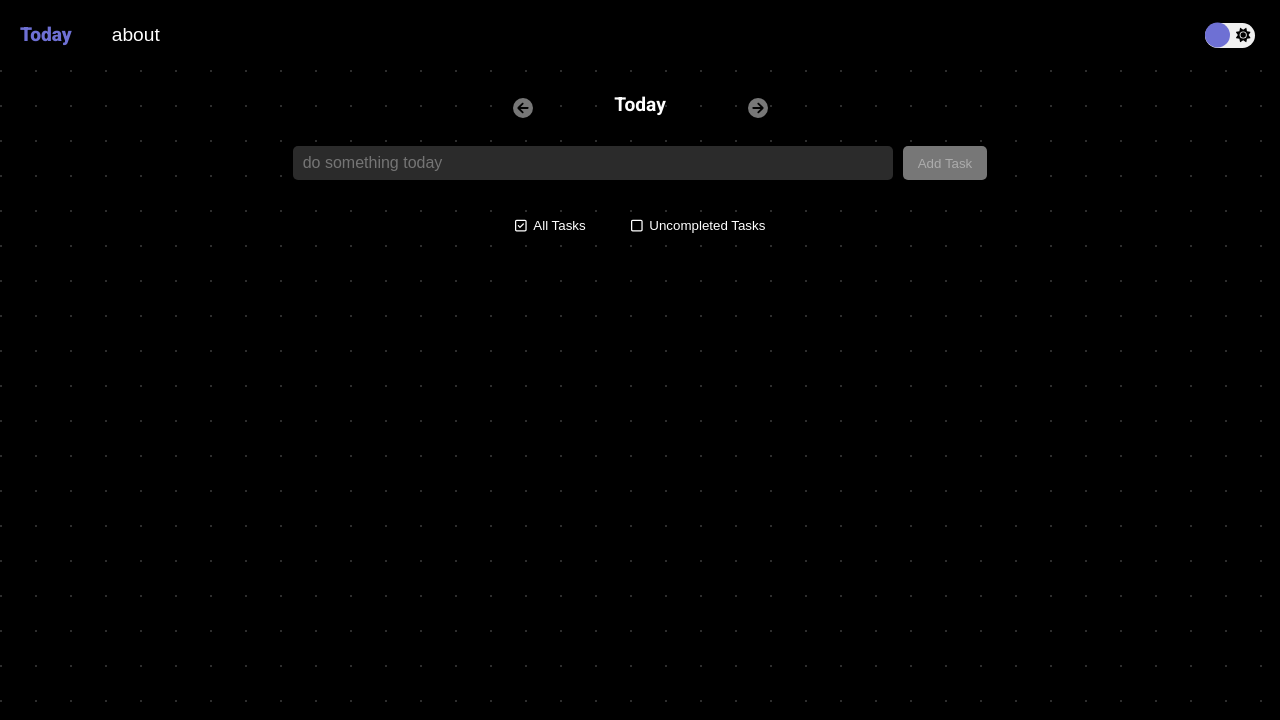
Test: My First Test › Task Actions › Delete task
Type "foobar" into the field with test id "newTaskInput" at (593, 163), box x1=293 y1=146 x2=893 y2=180
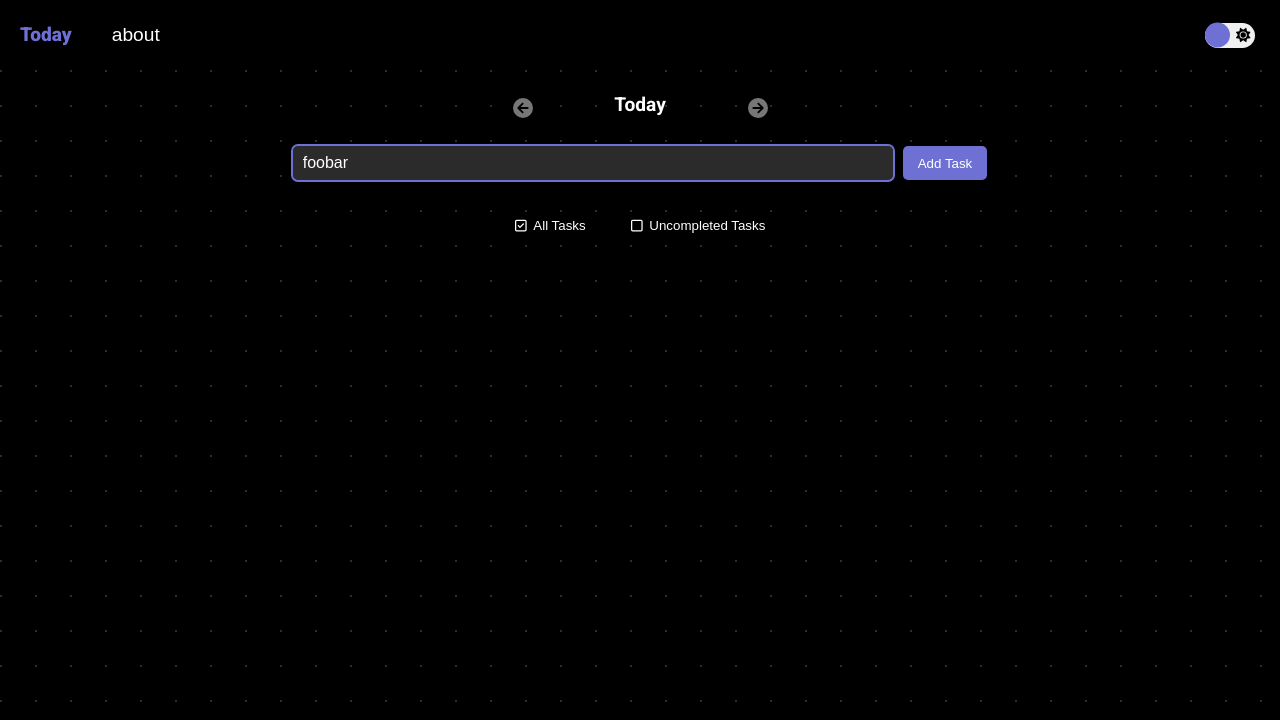
Click the button with test id "newTaskSubmit" at (946, 163), box x1=903 y1=146 x2=988 y2=180
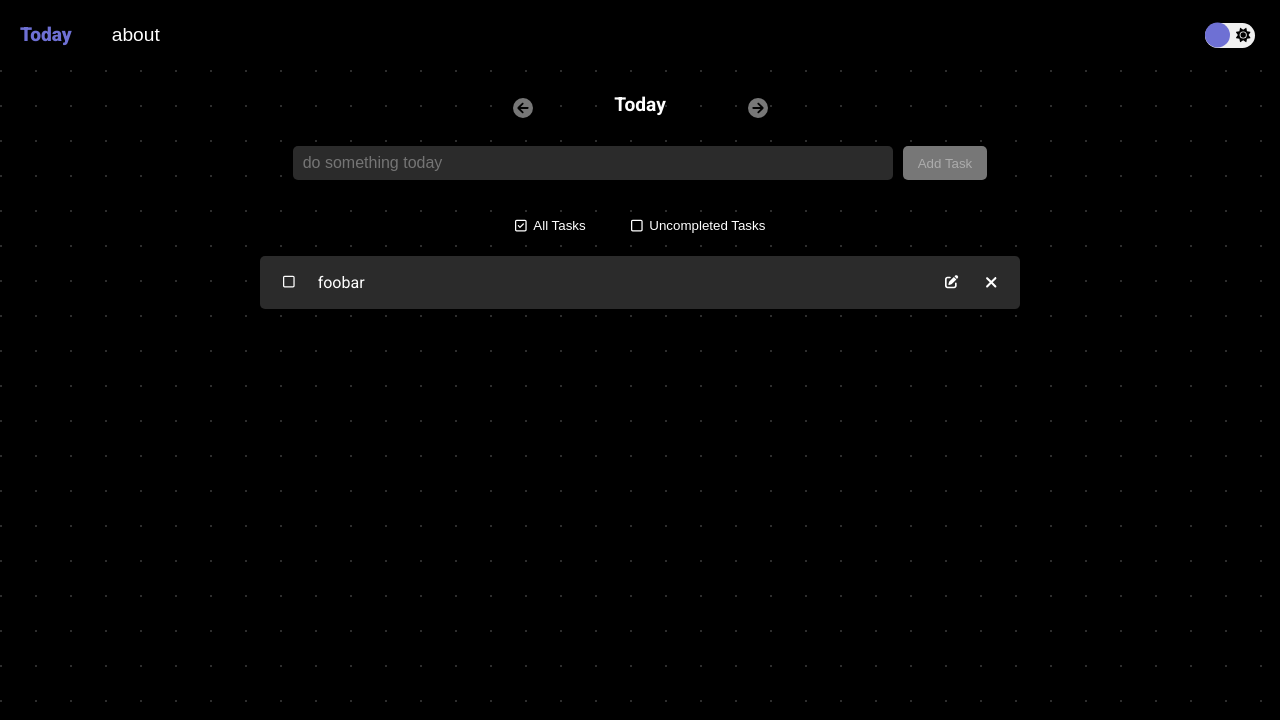
Click the button with test id "deleteTask" at (992, 283), box x1=975 y1=266 x2=1008 y2=299
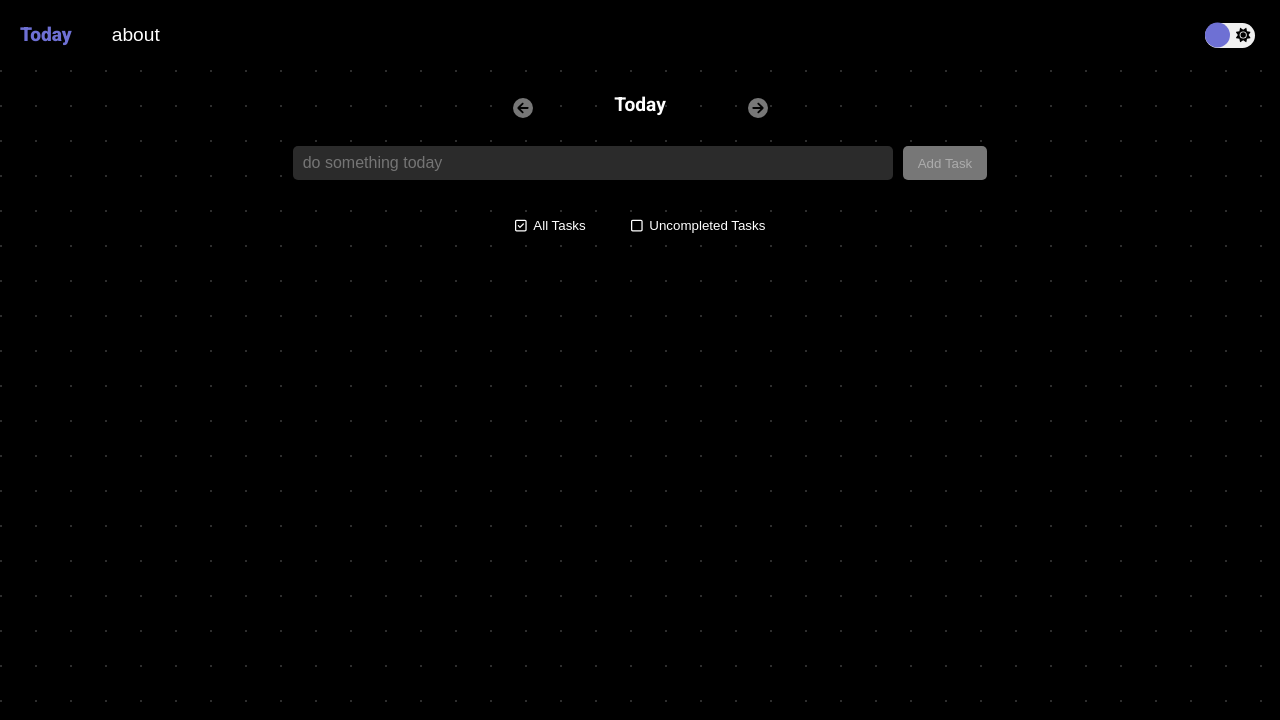
Now the text "foobar" is gone
